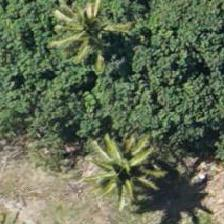coconut_tree: (79, 118, 169, 208), (46, 0, 136, 73)
